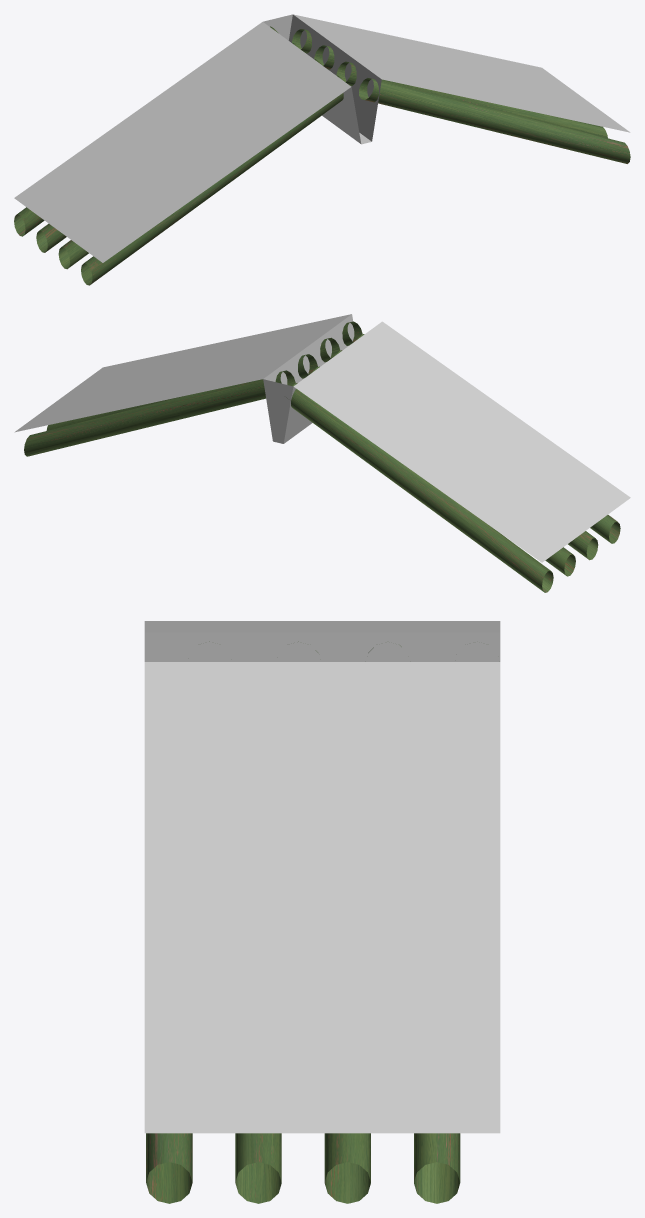
File: SM_Giwa02B_a8.fbx
The picture shows the model from 3 angles, top to bottom: view 1: azimuth 30°, elevation 25°; view 2: azimuth 150°, elevation 25°; view 3: azimuth 270°, elevation 25°; orthographic projection. The views are drawn at different scales.
Visible parts, largest first — view 1: SM_Giwa02B_a8; view 2: SM_Giwa02B_a8; view 3: SM_Giwa02B_a8.
Part boxes in pixels (x1,y1,x2,y2): SM_Giwa02B_a8: [14, 14, 630, 285]; SM_Giwa02B_a8: [14, 314, 630, 592]; SM_Giwa02B_a8: [144, 621, 500, 1203].
Bounding box in the file's own units: 337 × 98.26 × 91.05.
